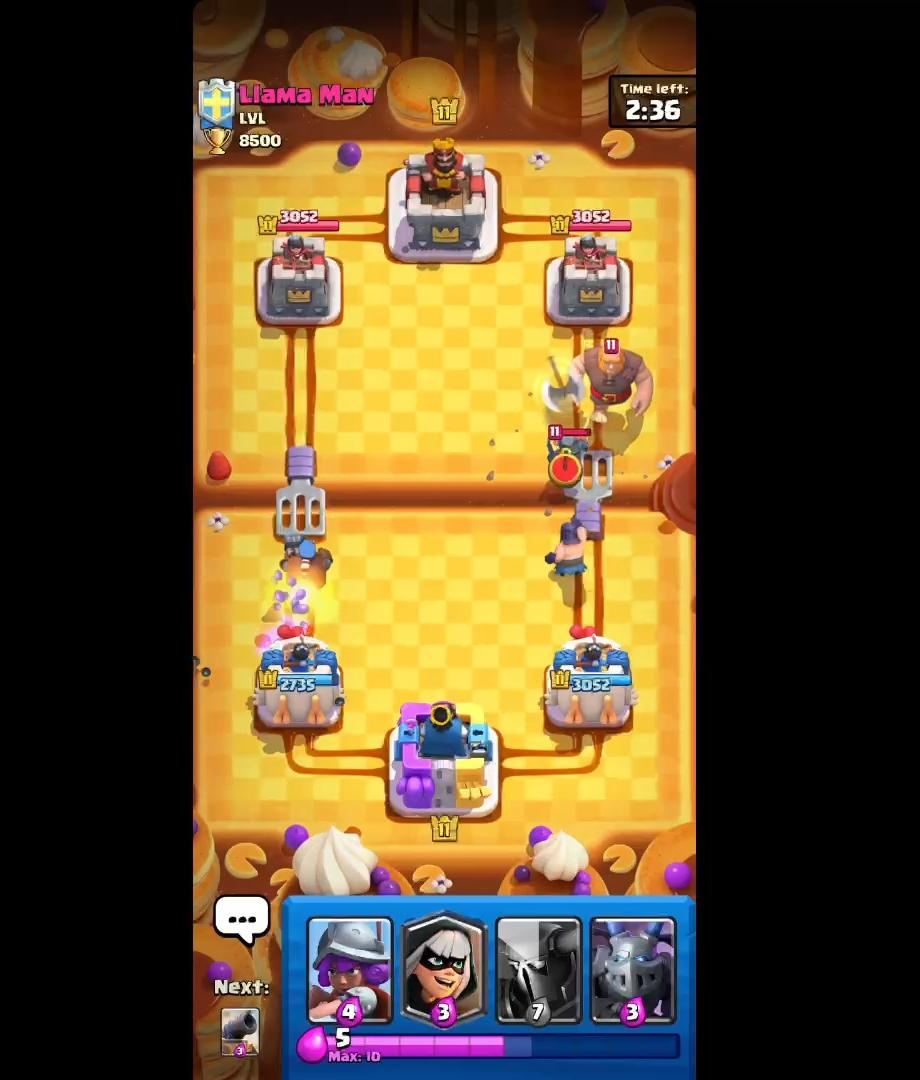Giant: (569, 330, 658, 426)
